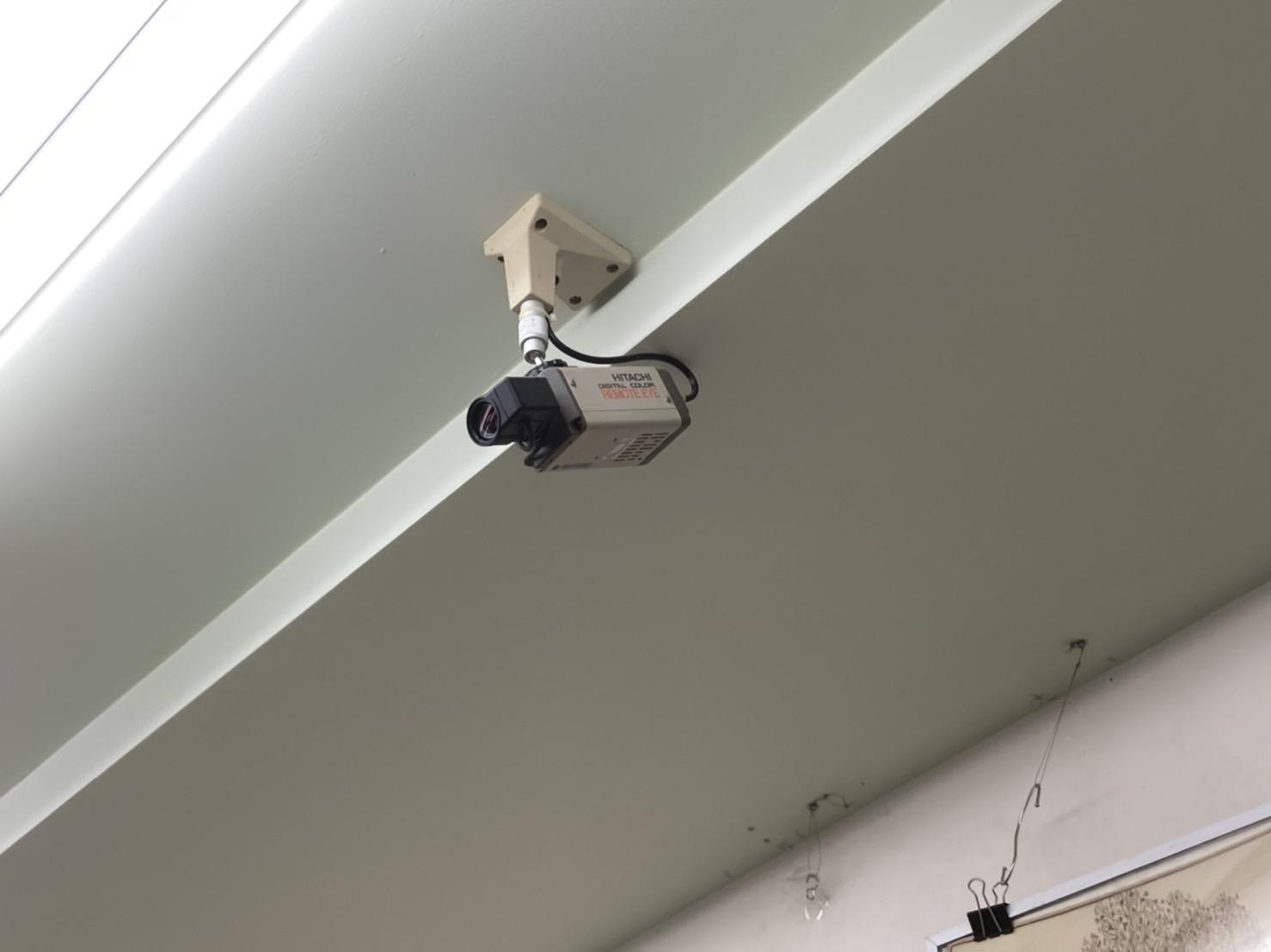tutu: (451, 351, 688, 481)
